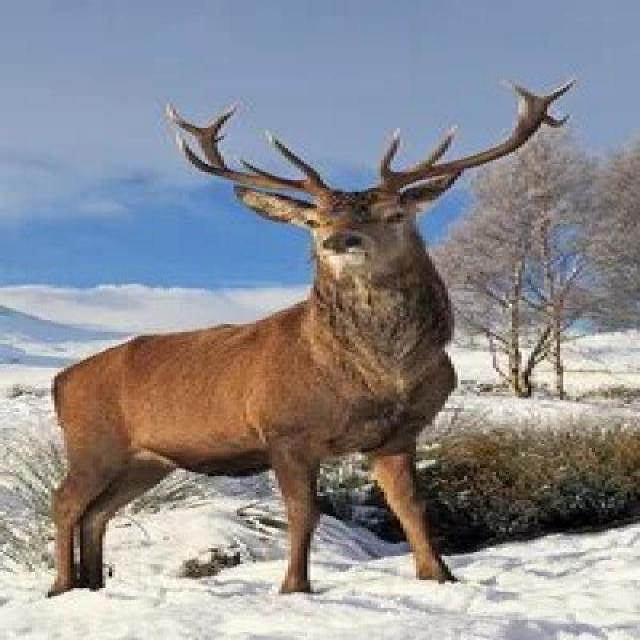deer: (0, 67, 599, 570)
